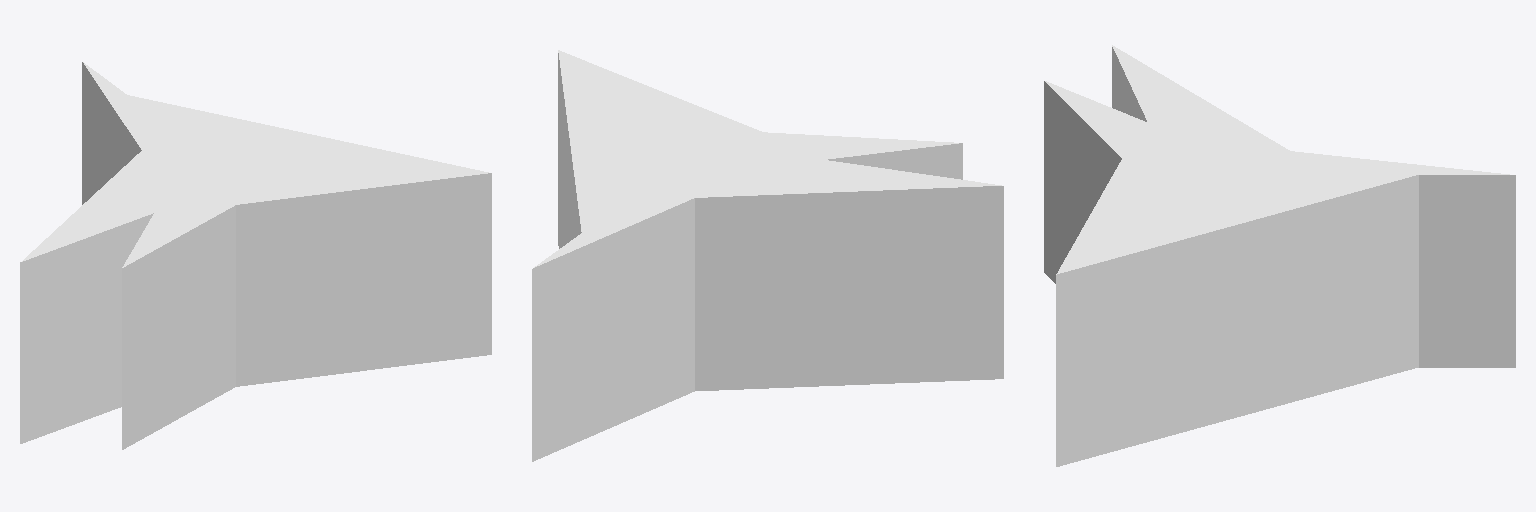
URDF robot description (2):
<?xml version="1.0" ?>
<robot name="2">
  <link concave="yes" name="baseLink">
    <contact>
    	<friction_anchor/>
    	   <lateral_friction value="1.0"/>
    </contact>
    <inertial>
      <origin rpy="0 0 0" xyz="0 0 0"/>
       <!-- mass controls penetration -->
       <mass value=".1"/>
       <inertia ixx="1e-4" ixy="0" ixz="0" iyy="1e-4" iyz="0" izz="1e-4"/>
    </inertial>
    <visual>
      <origin rpy="0 0 0" xyz="0 0 0"/>
      <geometry>
        <mesh filename="package://object_datasets/Tandem2D/meshes/2.obj"/>
      </geometry>
       <material name="white">
        <color rgba="1 1 1 1"/>
      </material>
    </visual>
    <collision>
      <origin rpy="0 0 0" xyz="0 0 0"/>
      <geometry>
        <mesh filename="package://object_datasets/Tandem2D/meshes/2.obj"/>
      </geometry>
    </collision>
  </link>
</robot>

--- What the picture shows (computed from the rendered views, not written in the file) ---
The picture shows the robot from 3 angles, left to right: view 1: azimuth 30°, elevation 25°; view 2: azimuth 150°, elevation 25°; view 3: azimuth 270°, elevation 25°; orthographic projection.
Robot: 2 — 1 links, 0 joints (none); root link baseLink; default pose: all joints at 0.
Links seen in each view (by area): view 1: baseLink; view 2: baseLink; view 3: baseLink.
Link boxes in pixels (x1,y1,x2,y2): baseLink: [20, 62, 491, 449]; baseLink: [532, 50, 1003, 461]; baseLink: [1044, 45, 1515, 466].
Bounding box of the posed robot: 0.1919 × 0.1661 × 0.075 m (x, y, z).
1 mesh visuals loaded from 1 distinct referenced files (1 OBJ).
